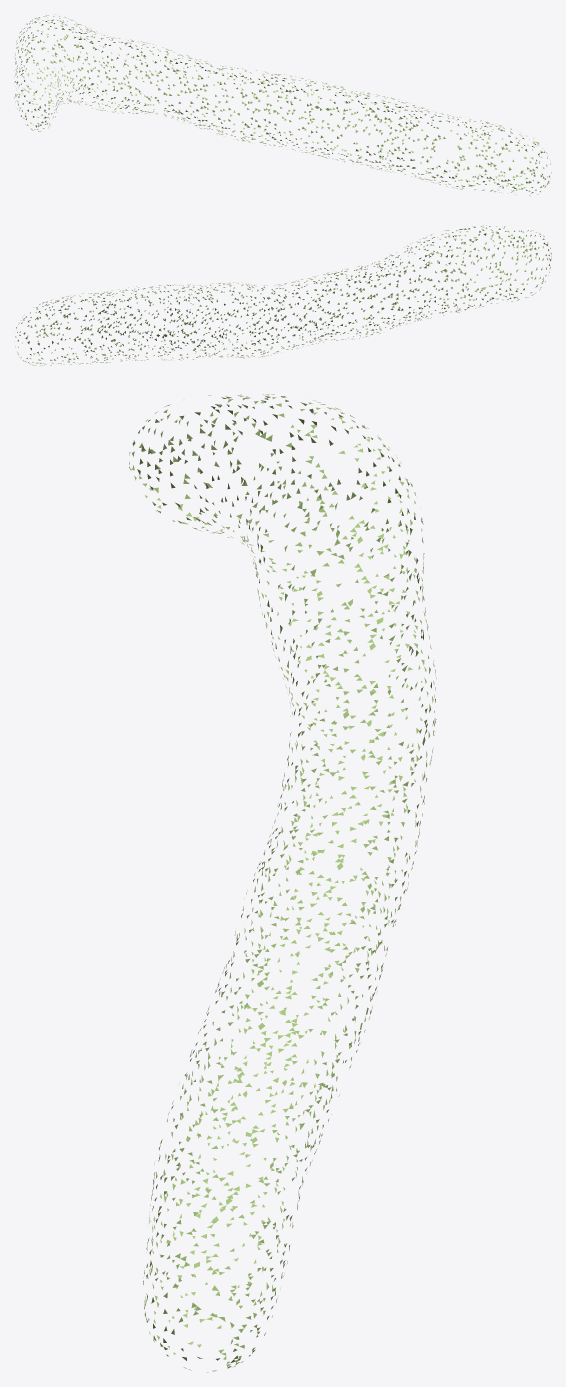
Rendered from morph_012.glb.
3 views of the same model, one above another, from view 1: azimuth 30°, elevation 25°; view 2: azimuth 150°, elevation 25°; view 3: azimuth 270°, elevation 25° (orthographic). The views are drawn at different scales.
Bounding box in the file's own units: 137 × 65.79 × 35.24.
